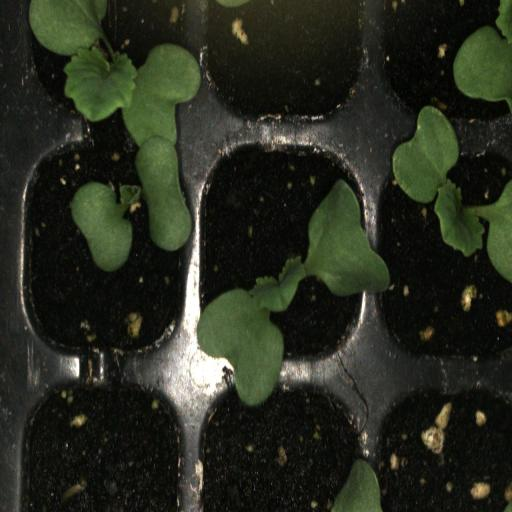Folha: (453, 0, 512, 106), (331, 459, 382, 512)
Germinacao: (196, 132, 372, 372), (20, 134, 195, 356), (372, 133, 512, 374), (20, 0, 196, 134)
